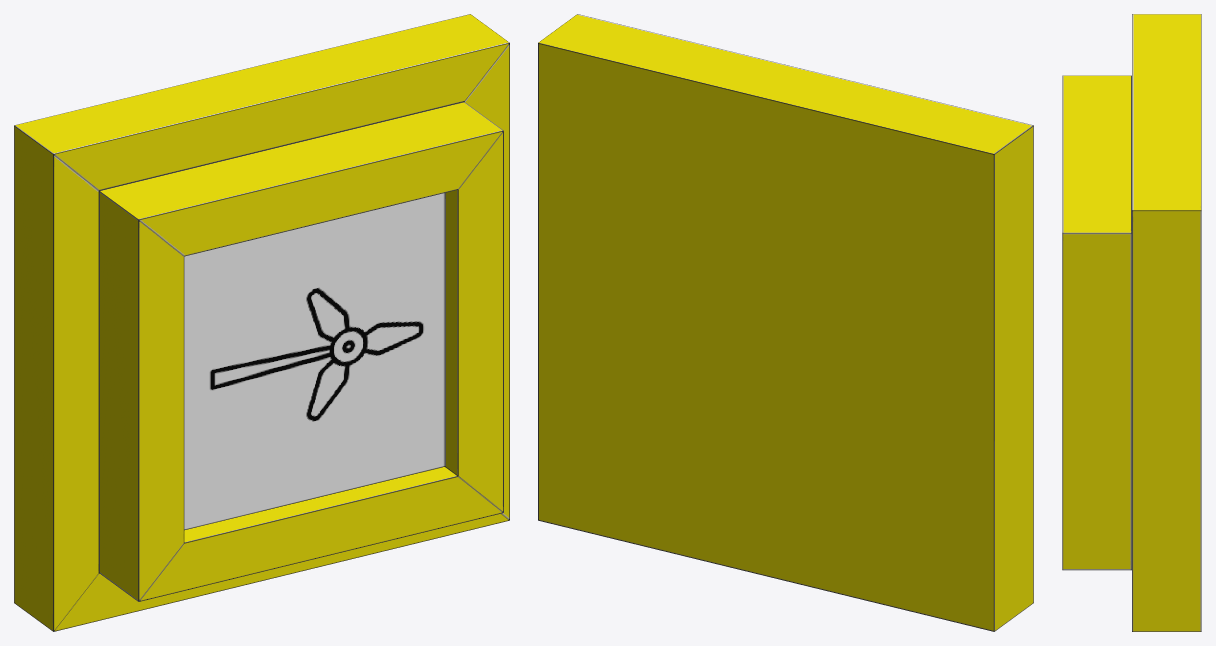
Rendered from RenewableLevel2_rot_2_3.fbx.
The picture shows the model from 3 angles, left to right: view 1: azimuth 30°, elevation 25°; view 2: azimuth 150°, elevation 25°; view 3: azimuth 270°, elevation 25°; orthographic projection. The views are drawn at different scales.
Visible parts, largest first — view 1: Plane; view 2: Plane; view 3: Plane.
Part boxes in pixels (<box>): Plane: <box>14,14,509,631</box>; Plane: <box>538,14,1033,631</box>; Plane: <box>1062,14,1201,631</box>.
Size of the model in its own units: 460 by 460 by 138.
1 material, 1 textured.
